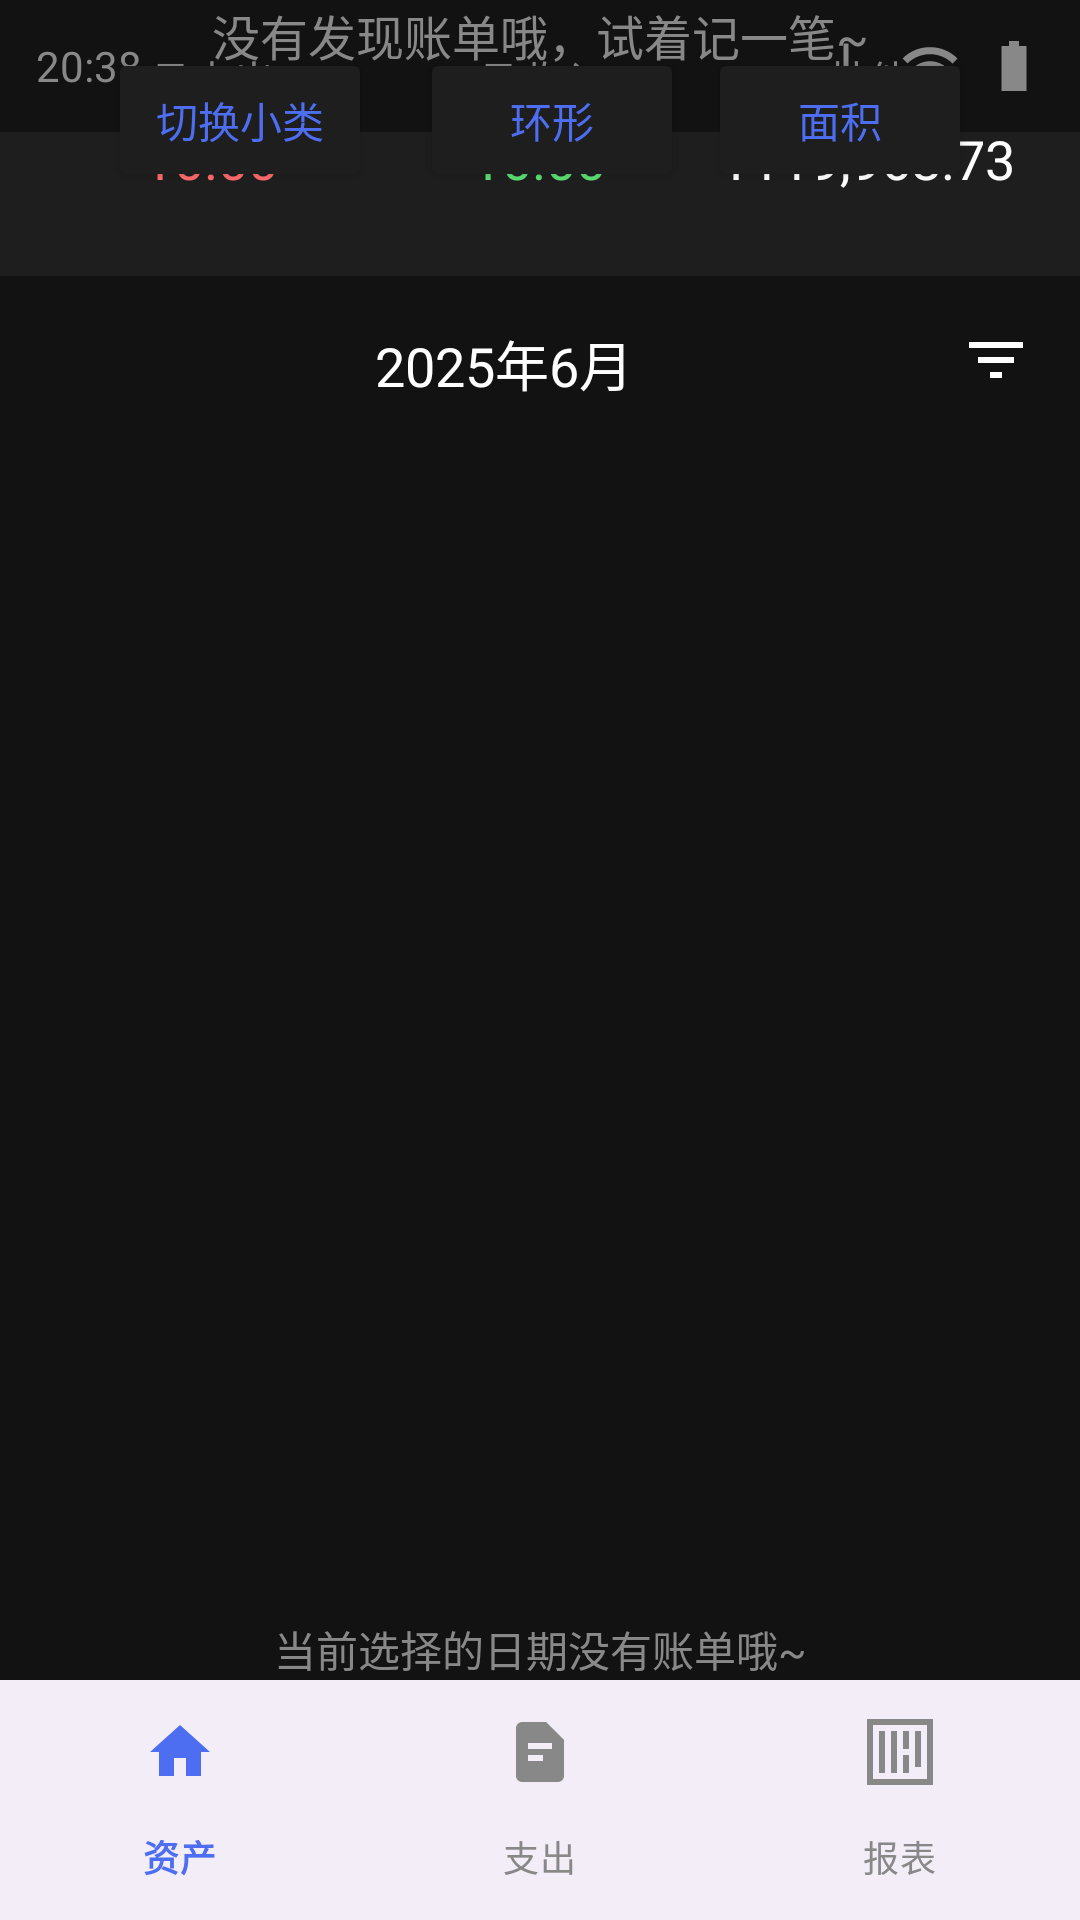

Locate icon controls on the screen. Image size 1080 x 1920, boxes as (x1, y1, x2, y2).
battery: (1001, 41, 1027, 91)
filter: (969, 342, 1023, 378)
